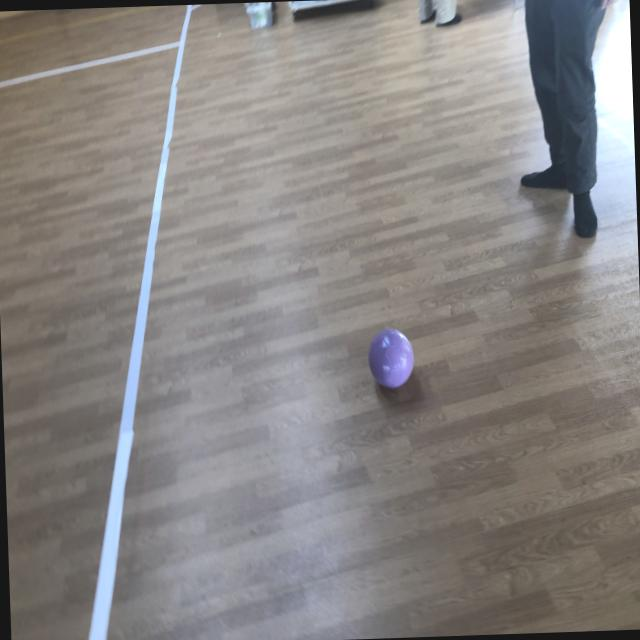purple_ball: (366, 327, 414, 388)
